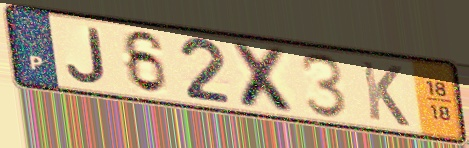2: (176, 34, 237, 110)
3: (299, 51, 349, 120)
6: (121, 29, 169, 97)
J: (64, 25, 110, 86)
K: (358, 58, 413, 130)
X: (228, 39, 302, 117)
